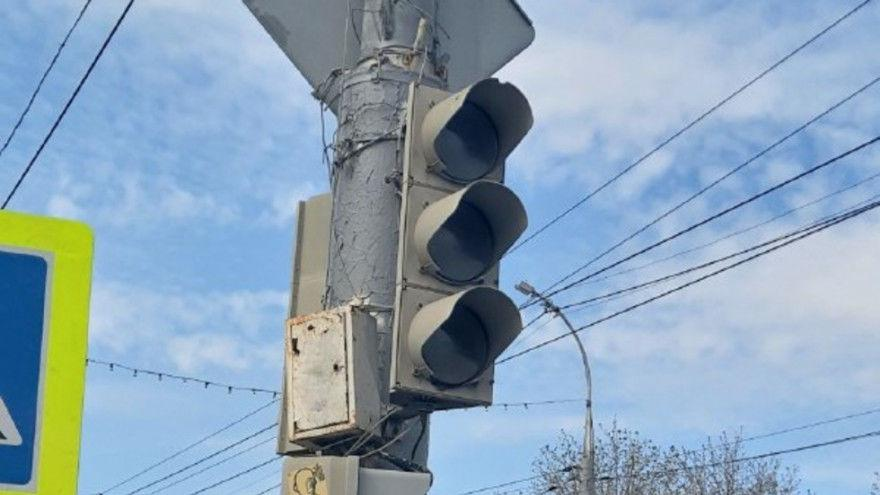obstructed_road_sign: (0, 211, 93, 493)
off traffic light: (393, 76, 535, 406)
